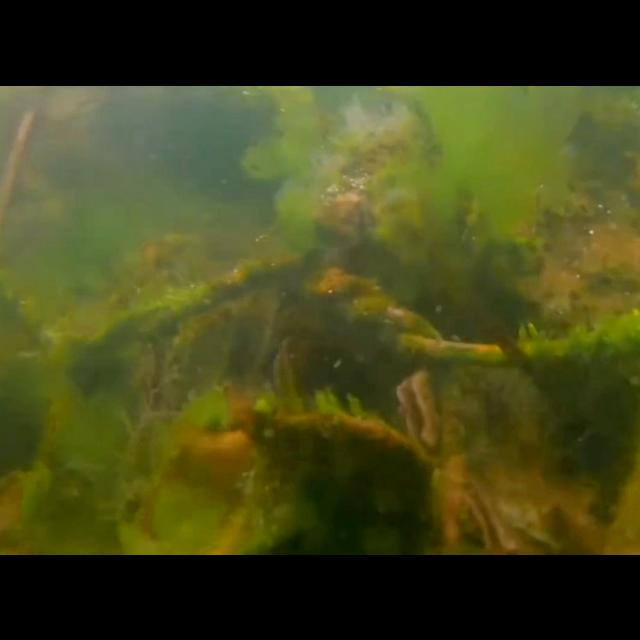Oyster-Closed: (253, 406, 442, 554)
Oyster-Open: (500, 486, 600, 554), (392, 368, 452, 460), (246, 333, 312, 412), (456, 472, 509, 554)
